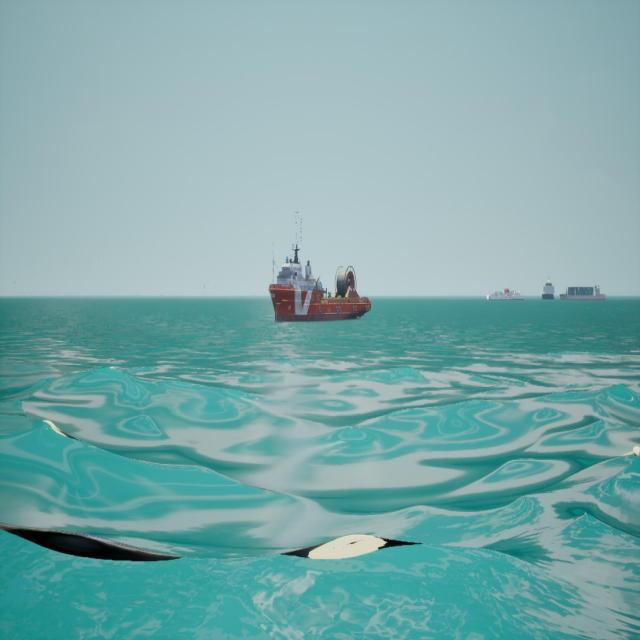tug boat: (269, 213, 370, 326)
